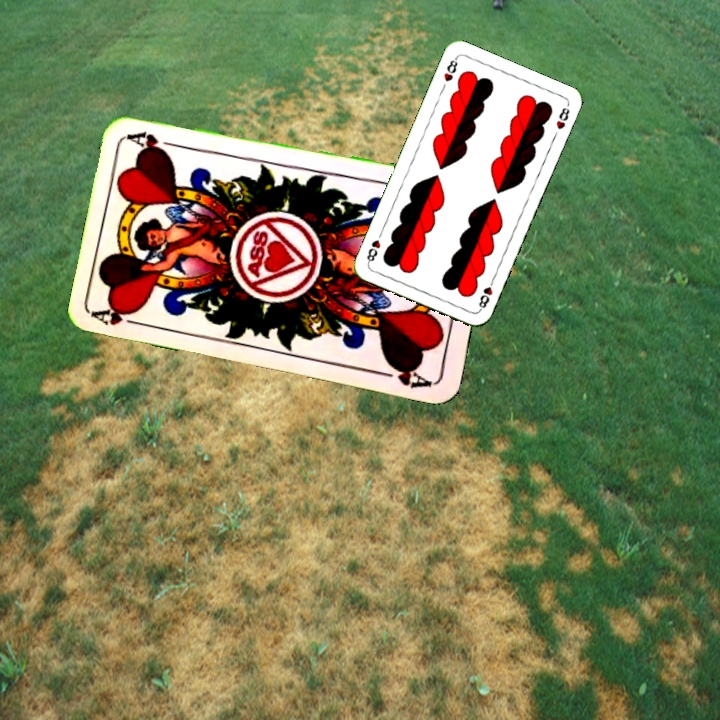H8: (474, 274, 497, 313), (440, 53, 460, 84)
HA: (91, 304, 150, 330)
